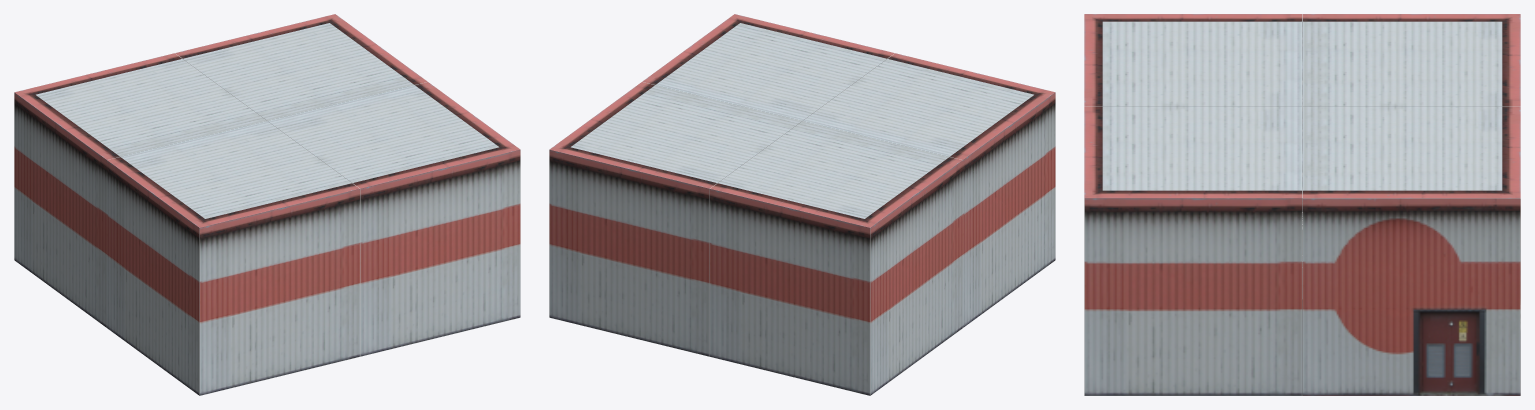
File: BuildingC.fbx
3 views of the same model, side by side, from view 1: azimuth 30°, elevation 25°; view 2: azimuth 150°, elevation 25°; view 3: azimuth 270°, elevation 25° (orthographic). The views are drawn at different scales.
Visible parts, largest first — view 1: Building_C.001; view 2: Building_C.001; view 3: Building_C.001.
Part boxes in pixels (<box>): Building_C.001: <box>14,14,520,395</box>; Building_C.001: <box>549,14,1055,395</box>; Building_C.001: <box>1084,14,1520,395</box>.
Size of the model in its own units: 1200 by 600 by 1200.
1 material, 1 textured.
